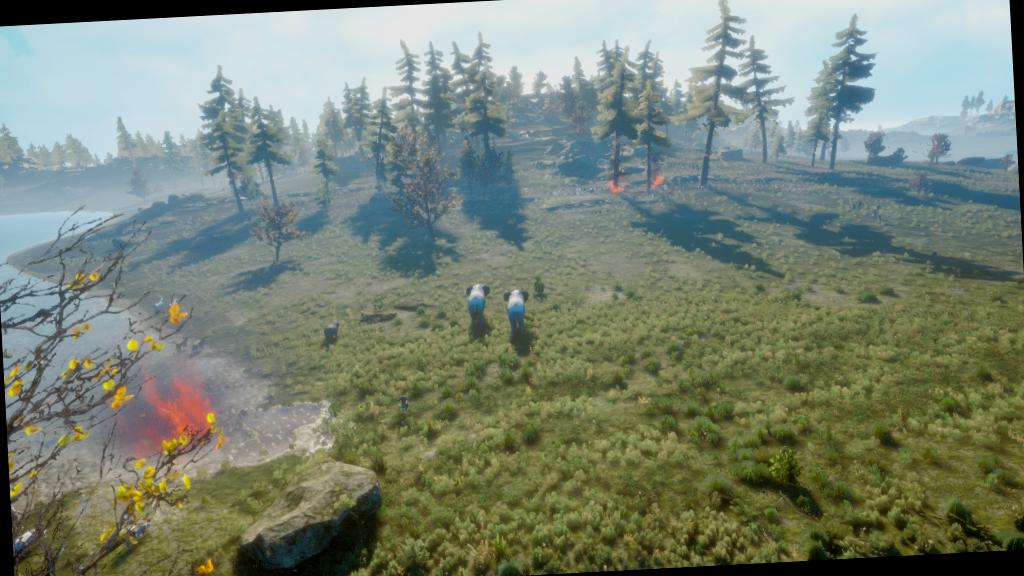Fire: (139, 368, 216, 434)
elephant: (458, 273, 500, 348), (500, 280, 532, 338)
hippopotamus: (315, 311, 354, 352)
human: (388, 383, 417, 424)
